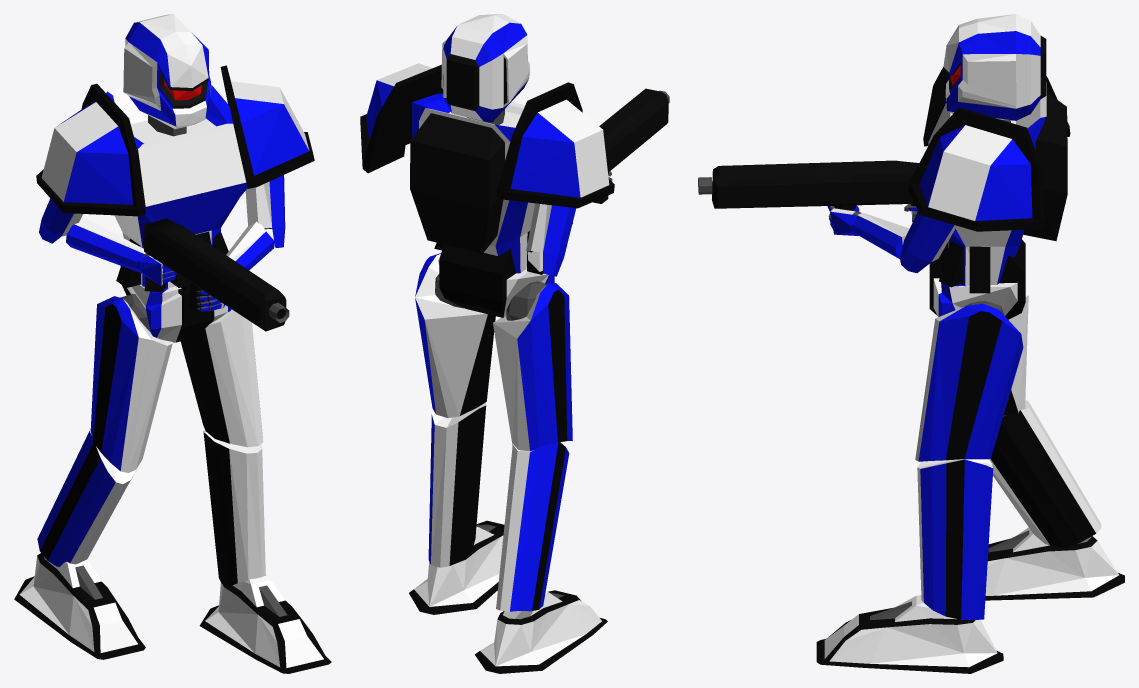
File: robot_animation_000007.obj
3 views of the same model, side by side, from view 1: azimuth 30°, elevation 25°; view 2: azimuth 150°, elevation 25°; view 3: azimuth 270°, elevation 25° (orthographic).
Parts seen in each view (by area): view 1: Chest_plate_Cube.004, R_Thigh_Cube.005, Cube.002_Cube.059, Head_base_Cube.022, R_Thigh.002_Cube.027, R_Foot_Cube, R_Shin.002_Cube.029, R_Foot.002_Cube.035, Cube_Cube.001, R_Shin_Cube.007, Cube_Cube.021, Pelvis_Cube.006 (+5 smaller); view 2: Chest_plate_Cube.004, Cube.002_Cube.059, R_Thigh_Cube.005, R_Shin_Cube.007, R_Thigh.002_Cube.027, Head_base_Cube.022, R_Shin.002_Cube.029, R_Foot_Cube, Cube_Cube.021, Pelvis_Cube.006, R_Foot.002_Cube.035, Cube_Cube.001 (+2 smaller); view 3: Cube_Cube.021, R_Thigh.002_Cube.027, R_Shin.002_Cube.029, R_Foot.002_Cube.035, Head_base_Cube.022, Cube_Cube.001, R_Shin_Cube.007, Chest_plate_Cube.004, R_Foot_Cube, Pelvis_Cube.006, L_Arm_Cube.014, L_Forearm_Cube.020 (+3 smaller).
Part boxes in pixels (x1,y1,x2,y2): Chest_plate_Cube.004: (106, 85, 247, 292); R_Thigh_Cube.005: (90, 296, 172, 472); Cube.002_Cube.059: (36, 83, 145, 216); Head_base_Cube.022: (123, 14, 211, 129); R_Thigh.002_Cube.027: (180, 309, 263, 447); R_Foot_Cube: (14, 553, 145, 659); R_Shin.002_Cube.029: (203, 430, 265, 586); R_Foot.002_Cube.035: (199, 576, 331, 673); Cube_Cube.001: (144, 218, 289, 331); R_Shin_Cube.007: (37, 430, 138, 566); Cube_Cube.021: (220, 65, 314, 188); Pelvis_Cube.006: (120, 266, 231, 342); Chest_plate_Cube.004: (410, 93, 543, 274); Cube.002_Cube.059: (496, 82, 614, 208); R_Thigh_Cube.005: (493, 283, 572, 451); R_Shin_Cube.007: (496, 442, 569, 611); R_Thigh.002_Cube.027: (415, 253, 495, 418); Head_base_Cube.022: (441, 14, 530, 122); R_Shin.002_Cube.029: (428, 402, 486, 567); R_Foot_Cube: (474, 590, 607, 673); Cube_Cube.021: (360, 63, 443, 173); Pelvis_Cube.006: (438, 244, 554, 317); R_Foot.002_Cube.035: (409, 520, 504, 614); Cube_Cube.001: (593, 88, 669, 203); Cube_Cube.021: (908, 107, 1045, 231); R_Thigh.002_Cube.027: (915, 303, 1023, 461); R_Shin.002_Cube.029: (917, 459, 993, 619); R_Foot.002_Cube.035: (816, 595, 1003, 673); Head_base_Cube.022: (943, 14, 1046, 120); Cube_Cube.001: (698, 160, 919, 212); R_Shin_Cube.007: (989, 399, 1101, 547); Chest_plate_Cube.004: (928, 82, 1067, 293); R_Foot_Cube: (985, 527, 1124, 600); Pelvis_Cube.006: (929, 239, 1025, 319); L_Arm_Cube.014: (900, 211, 956, 272); L_Forearm_Cube.020: (852, 212, 909, 258).
Size of the model in its own units: 1.32 by 3.03 by 1.93.
